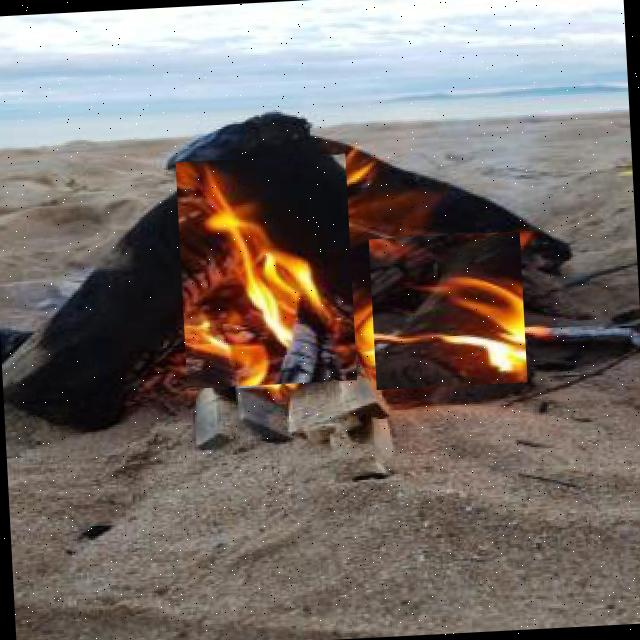fire: (175, 153, 358, 389), (368, 232, 528, 391)
